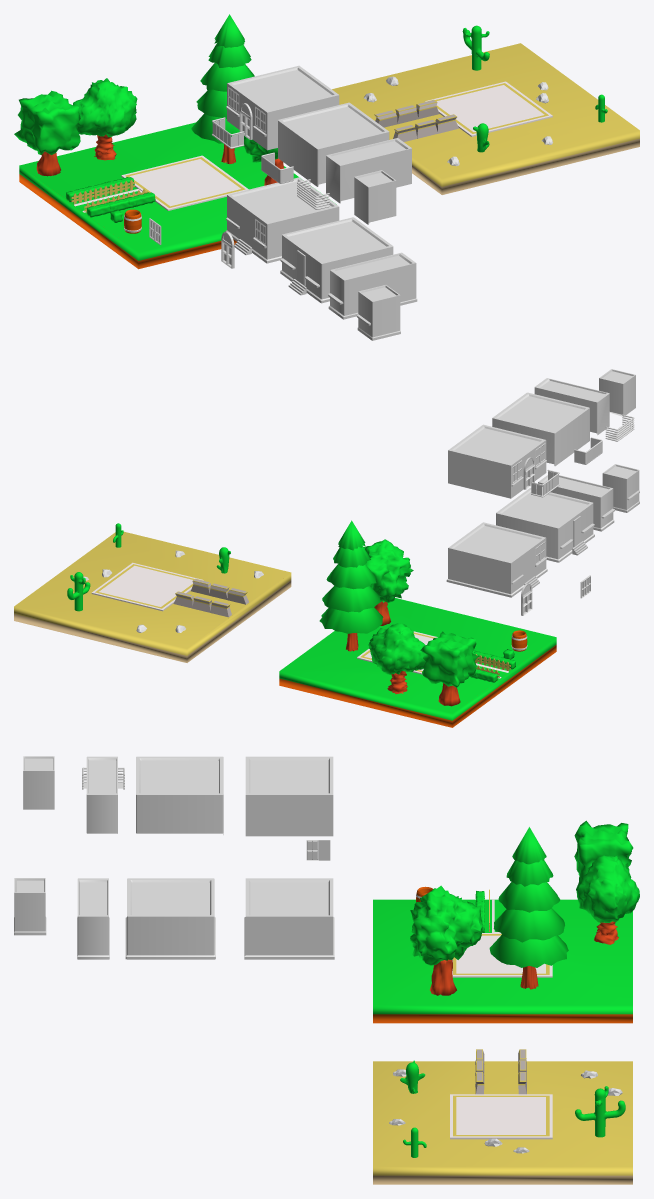
The model's file is area.fbx.
3 renders of one model, top to bottom at view 1: azimuth 30°, elevation 25°; view 2: azimuth 150°, elevation 25°; view 3: azimuth 270°, elevation 25°, orthographic. The views are drawn at different scales.
Visible parts, largest first — view 1: zemin.001, zemin, ev_zemin_kat, ev_zemin_kat.007, ev_zemin_kat.002, ev_zemin_kat.001, ev_zemini, agac_2, ev_zemini.001, ev_zemin_kat.003, ev_zemin_kat.006, agac_0 (+8 smaller); view 2: zemin.001, zemin, ev_zemin_kat, ev_zemin_kat.002, agac_2, ev_zemin_kat.007, ev_zemin_kat.001, ev_zemini.001, agac_0, cim_0.001, Sphere.006, ev_zemin_kat.006 (+4 smaller); view 3: zemin.001, zemin, ev_zemin_kat, ev_zemin_kat.001, ev_zemin_kat.002, agac_2, ev_zemin_kat.007, ev_zemini.001, Sphere.006, agac_0, ev_zemin_kat.003, ev_zemin_kat.006 (+6 smaller).
Boxes of the visible parts, x1=… form: zemin.001: x1=332, y1=43, x2=639, y2=194; zemin: x1=19, y1=122, x2=336, y2=269; ev_zemin_kat: x1=225, y1=177, x2=339, y2=263; ev_zemin_kat.007: x1=278, y1=102, x2=389, y2=186; ev_zemin_kat.002: x1=226, y1=65, x2=339, y2=150; ev_zemin_kat.001: x1=280, y1=217, x2=393, y2=303; ev_zemini: x1=121, y1=155, x2=248, y2=210; agac_2: x1=191, y1=14, x2=254, y2=164; ev_zemini.001: x1=424, y1=81, x2=552, y2=136; ev_zemin_kat.003: x1=328, y1=252, x2=417, y2=319; ev_zemin_kat.006: x1=326, y1=138, x2=411, y2=203; agac_0: x1=73, y1=78, x2=137, y2=160; zemin.001: x1=14, y1=531, x2=291, y2=662; zemin: x1=279, y1=598, x2=556, y2=727; ev_zemin_kat: x1=446, y1=522, x2=547, y2=597; ev_zemin_kat.002: x1=448, y1=424, x2=546, y2=498; agac_2: x1=319, y1=520, x2=383, y2=651; ev_zemin_kat.007: x1=492, y1=392, x2=589, y2=466; ev_zemin_kat.001: x1=496, y1=487, x2=594, y2=562; ev_zemini.001: x1=91, y1=562, x2=203, y2=611; agac_0: x1=368, y1=623, x2=425, y2=693; cim_0.001: x1=420, y1=631, x2=477, y2=687; Sphere.006: x1=363, y1=539, x2=413, y2=602; ev_zemin_kat.006: x1=534, y1=378, x2=609, y2=435; zemin.001: x1=373, y1=1061, x2=632, y2=1184; zemin: x1=373, y1=899, x2=632, y2=1023; ev_zemin_kat: x1=244, y1=878, x2=334, y2=959; ev_zemin_kat.001: x1=125, y1=878, x2=215, y2=959; ev_zemin_kat.002: x1=245, y1=756, x2=333, y2=836; agac_2: x1=489, y1=827, x2=568, y2=989; ev_zemin_kat.007: x1=136, y1=756, x2=223, y2=834; ev_zemini.001: x1=450, y1=1094, x2=552, y2=1139; Sphere.006: x1=410, y1=885, x2=483, y2=965; agac_0: x1=576, y1=855, x2=639, y2=944; ev_zemin_kat.003: x1=77, y1=878, x2=109, y2=959; ev_zemin_kat.006: x1=86, y1=756, x2=117, y2=833.
Size of the model in its own units: 4971 by 1695 by 4839.
